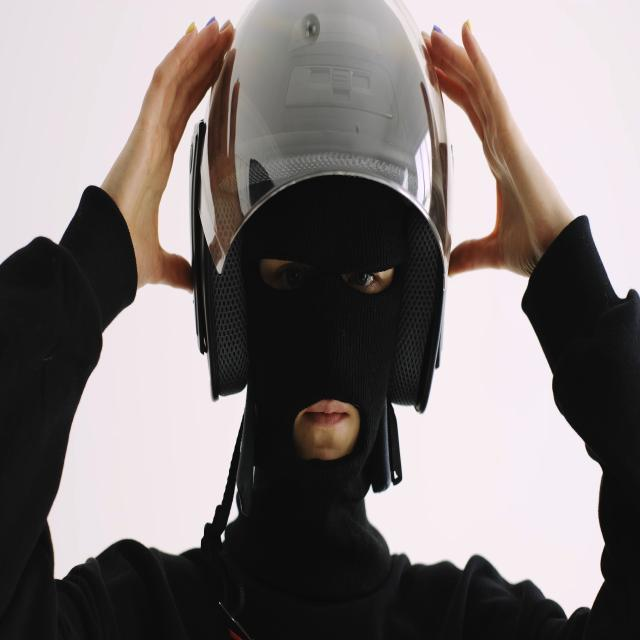Helmet_Wearer: (196, 0, 484, 628)
Person: (1, 0, 640, 640)
